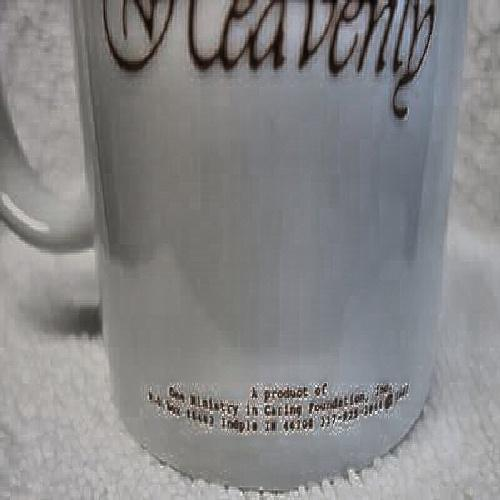mug: (20, 13, 463, 475)
